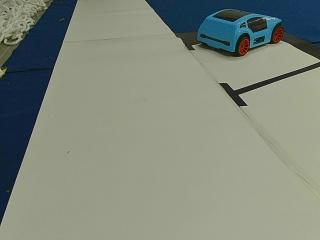car: (196, 10, 283, 55)
